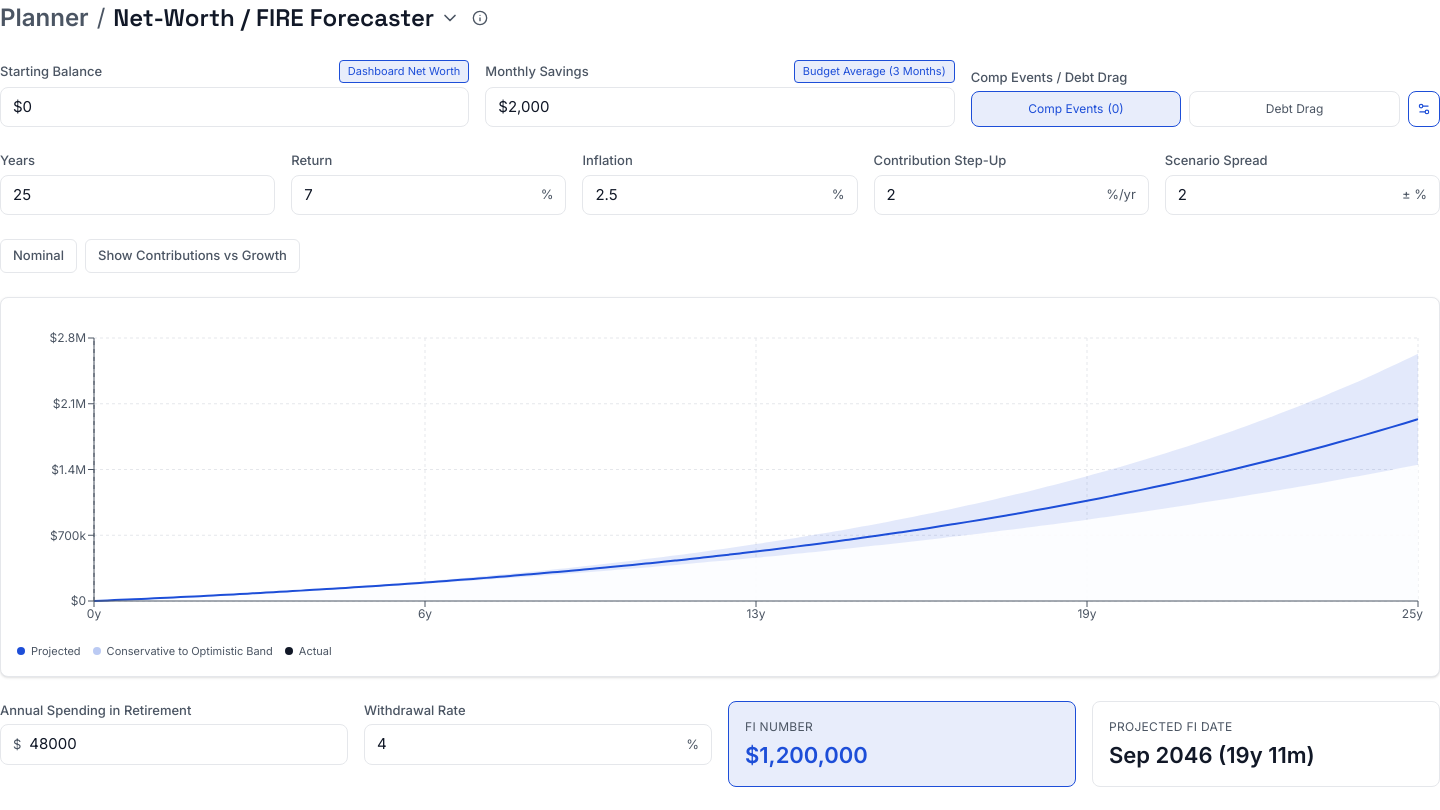
it: PlannerTool route › switches tools through the breadcrumb dropdown
This screenshot has width=1440, height=810.
Click the button "Net-Worth / FIRE Forecaster": (287, 18) [113,0,460,36]
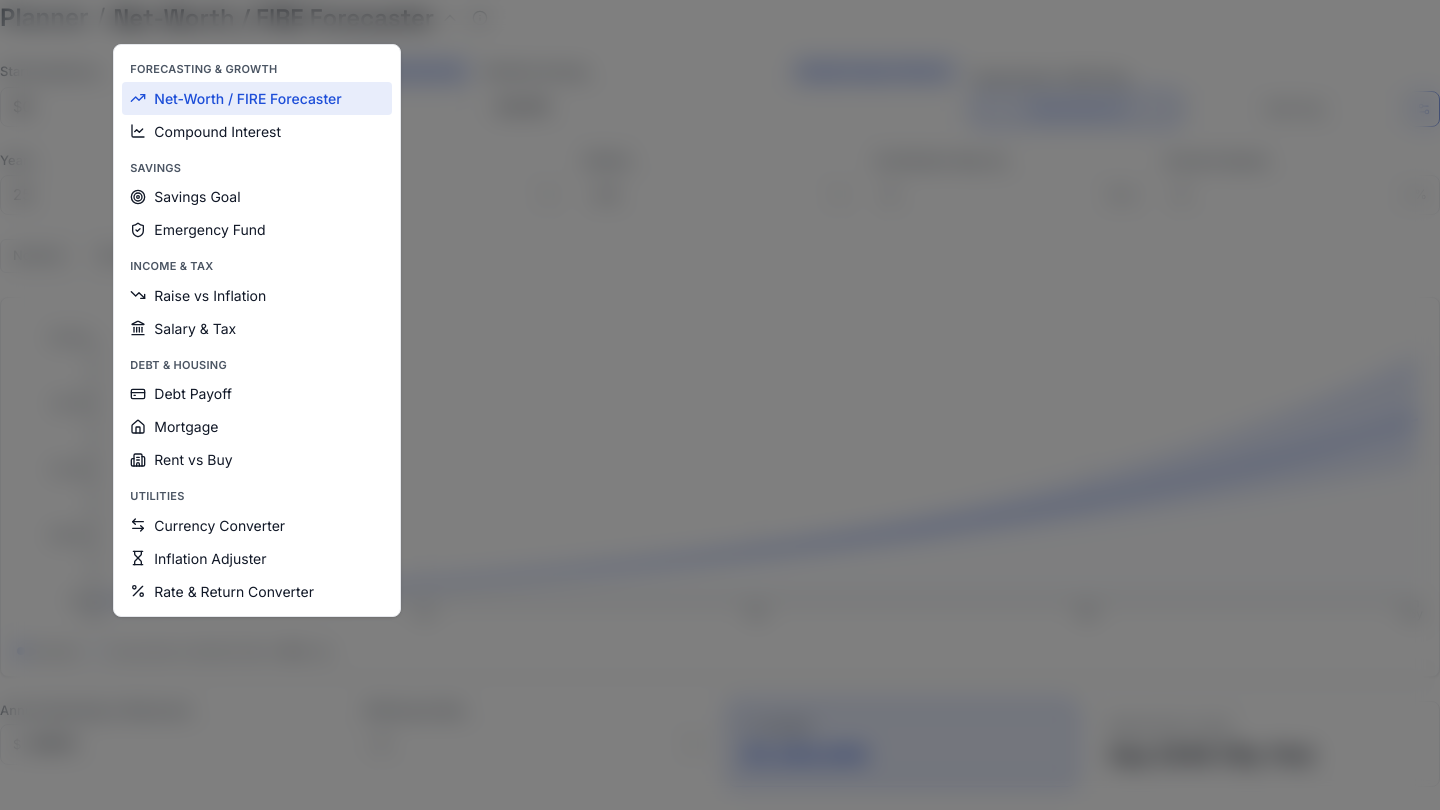
Click the menu item "Compound Interest": (257, 131) [122,114,392,148]
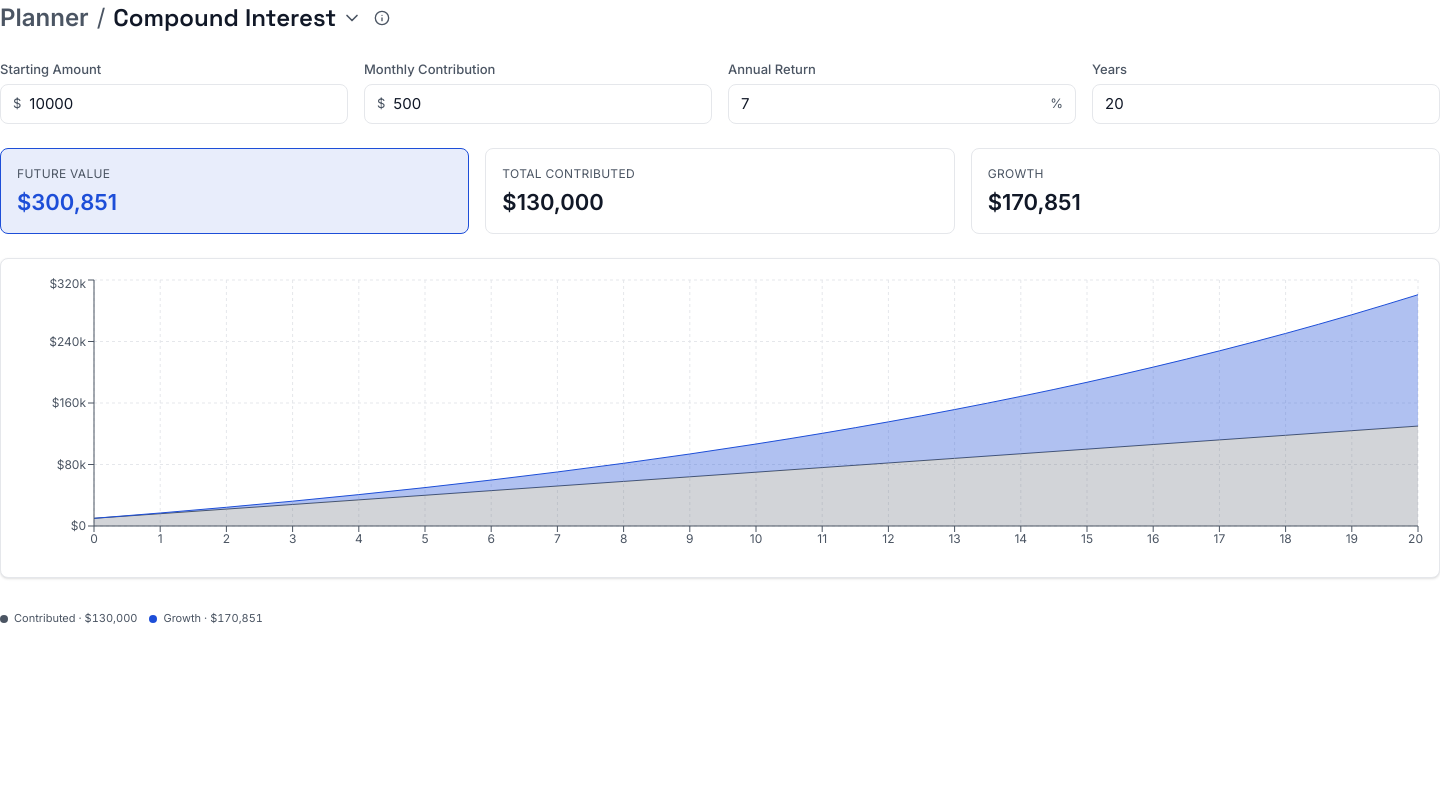
Now the heading "Compound Interest" is shown, box [113,0,336,36]
